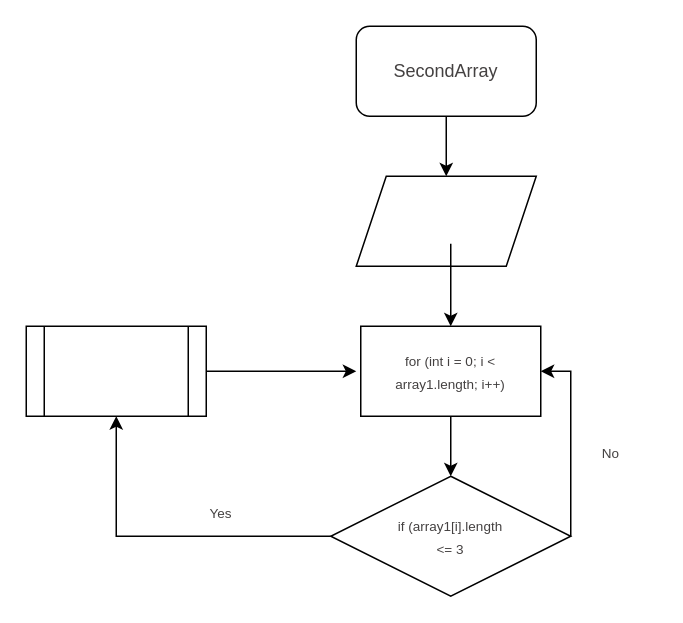
Image size: 683x623. Some labels were removed from this diagram. The shapes that lost their labels are listed below. From the top down, each one's centre as x and y in pixels, then its label:
At (x=445, y=220): "string[] array1 string[] array 2 int count = 0".
At (x=115, y=370): "array2[count] = array1[i] count++;".
